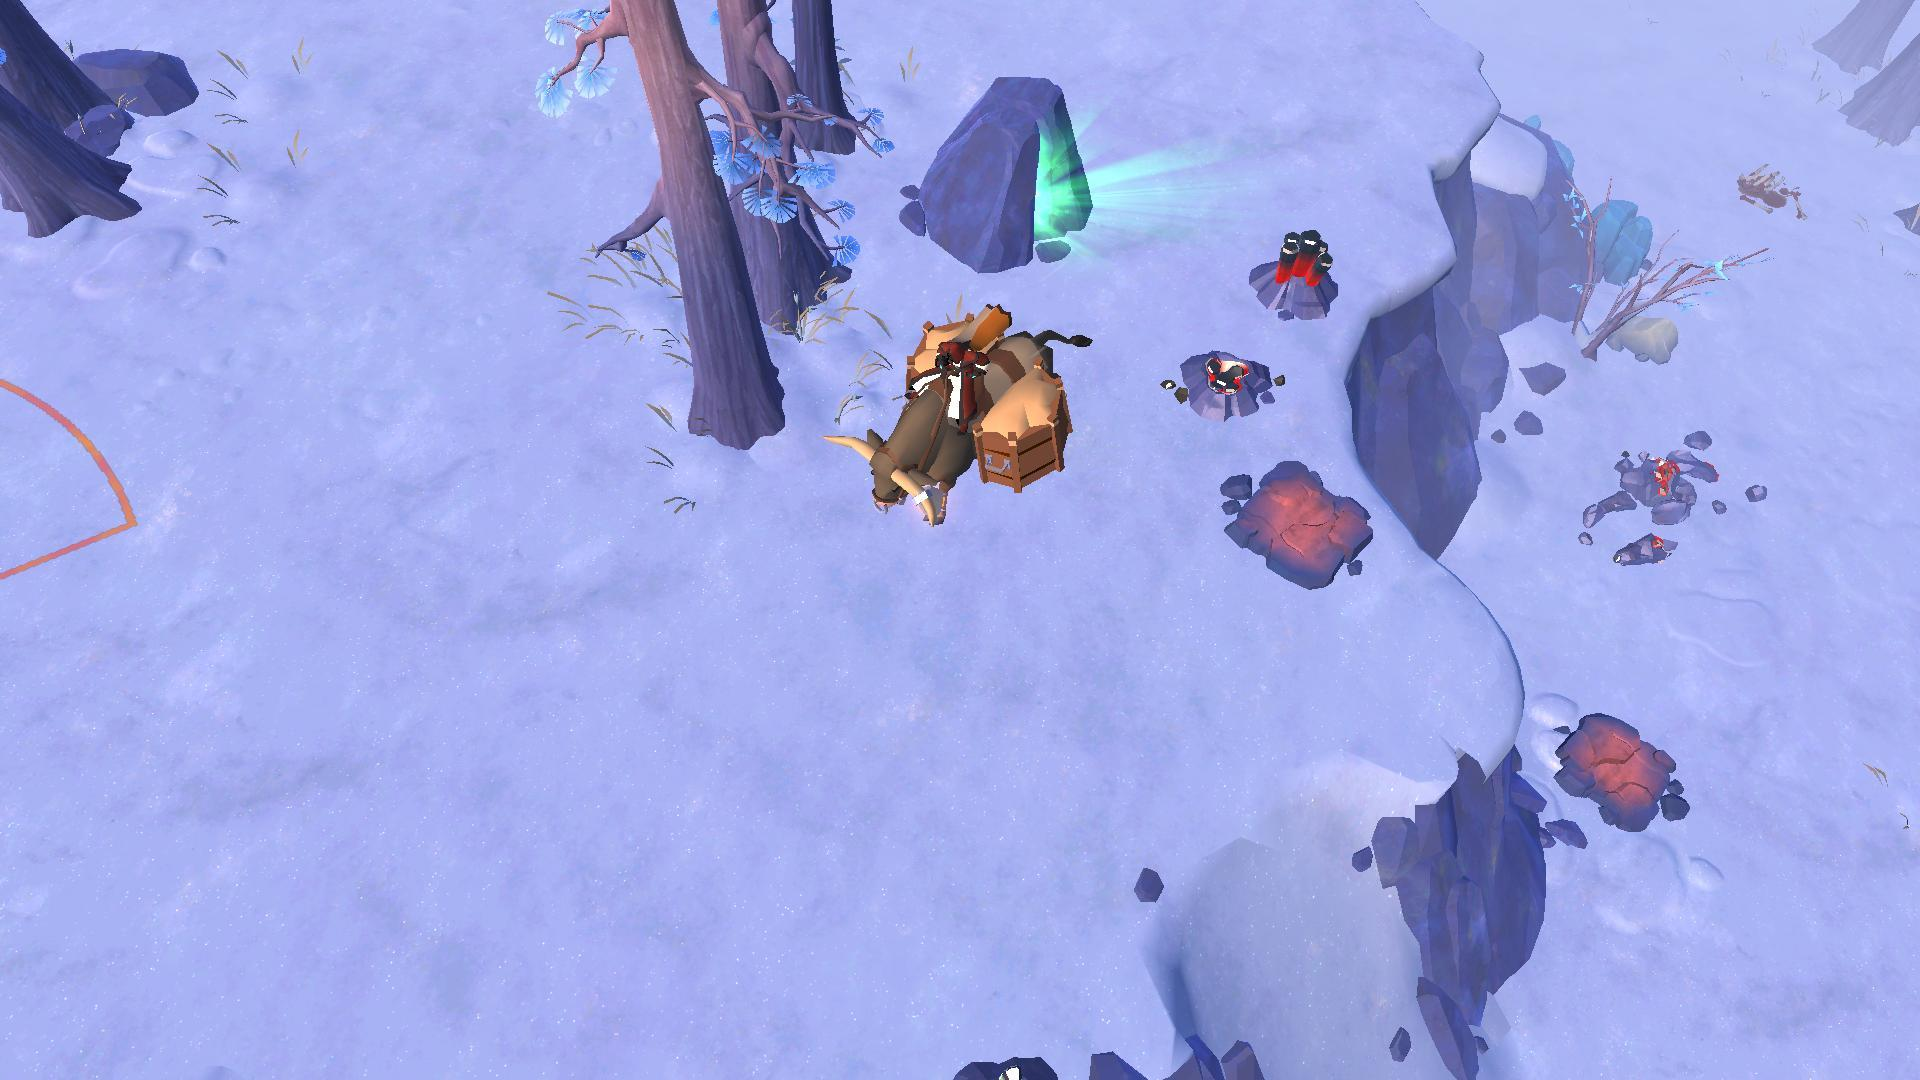ore_t5: (1274, 218, 1332, 293)
rock_t4: (1581, 190, 1656, 291)
